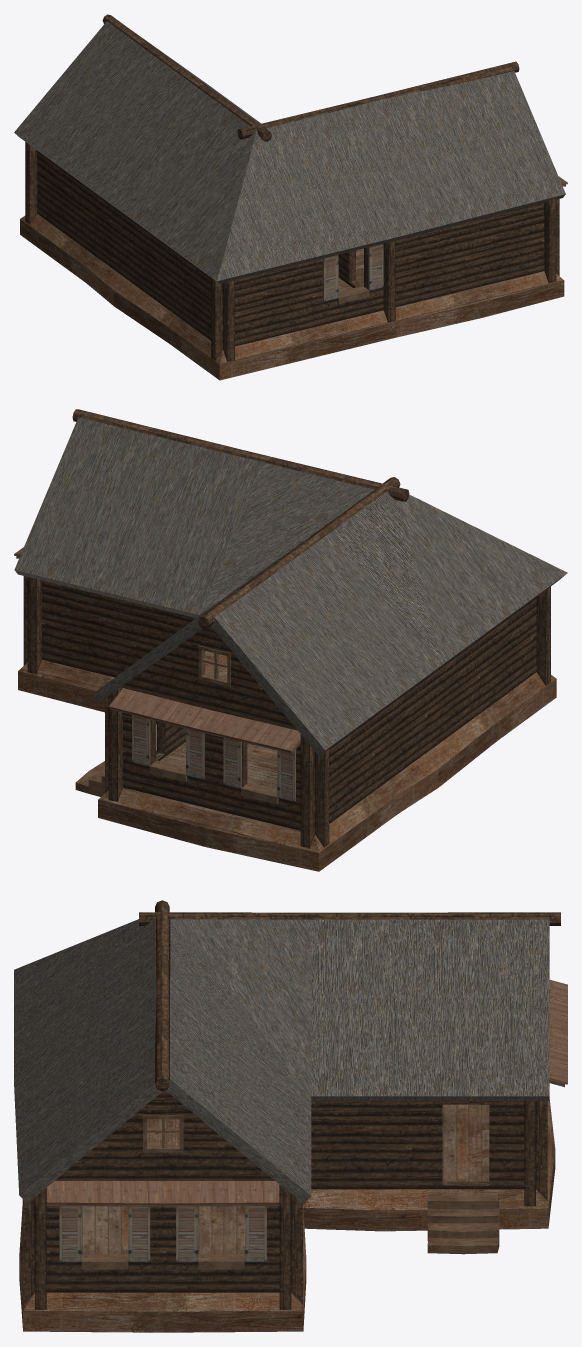
The model's file is Mouse Trap Cabin 2.fbx.
3 renders of one model, top to bottom at view 1: azimuth 30°, elevation 25°; view 2: azimuth 150°, elevation 25°; view 3: azimuth 270°, elevation 25°, orthographic. The views are drawn at different scales.
Visible parts, largest first — view 1: Cabin Two; view 2: Cabin Two; view 3: Cabin Two.
Part boxes in pixels (<box>): Cabin Two: <box>14,14,567,380</box>; Cabin Two: <box>14,409,567,871</box>; Cabin Two: <box>14,900,567,1332</box>.
Size of the model in its own units: 1424 by 731 by 1427.
